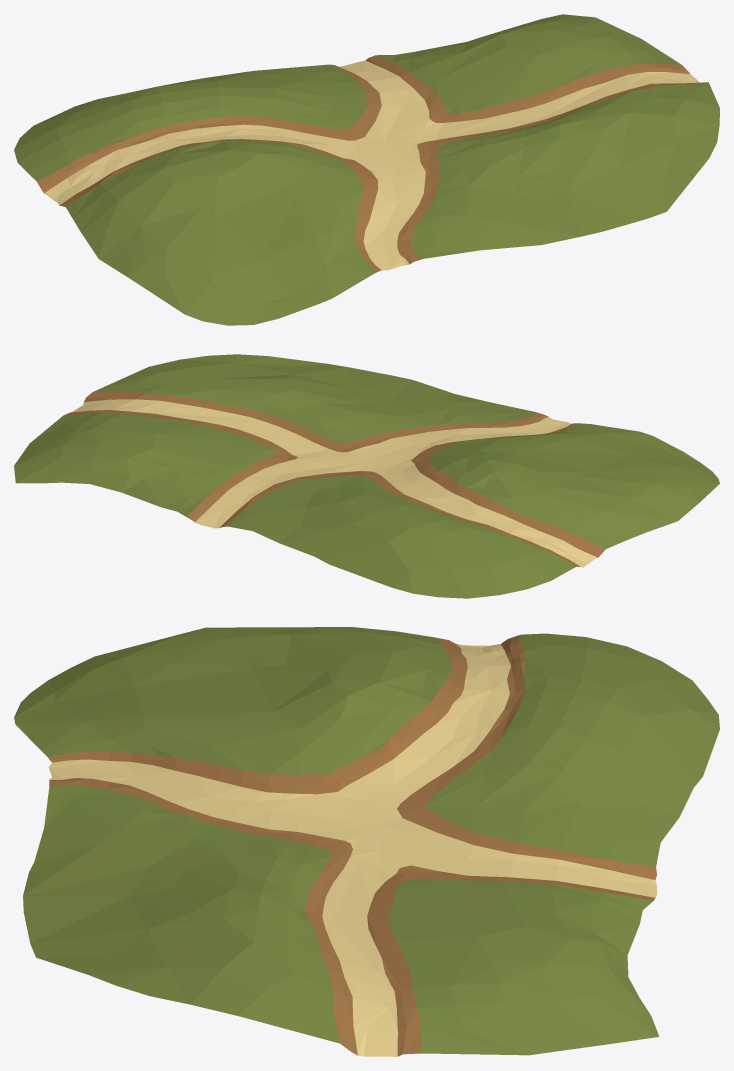
File: Terrain_Road_Intersection-03.FBX
3 renders of one model, top to bottom at view 1: azimuth 30°, elevation 25°; view 2: azimuth 150°, elevation 25°; view 3: azimuth 270°, elevation 25°, orthographic. The views are drawn at different scales.
Visible parts, largest first — view 1: Terrain_Road_Intersection-03; view 2: Terrain_Road_Intersection-03; view 3: Terrain_Road_Intersection-03.
Boxes of the visible parts, x1,y1,x2,y2 form: Terrain_Road_Intersection-03: [14, 14, 719, 325]; Terrain_Road_Intersection-03: [14, 354, 719, 598]; Terrain_Road_Intersection-03: [14, 627, 719, 1056].
Bounding box in the file's own units: 5245 × 459 × 3659.
Materials: 1 (1 with a texture image).
